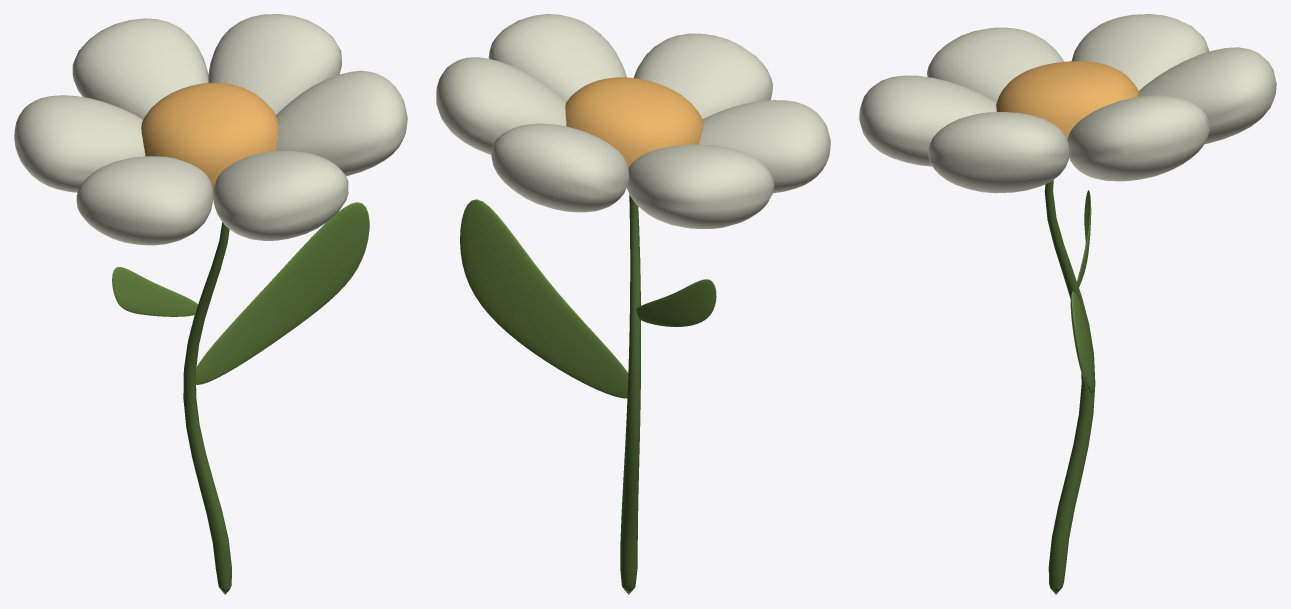
Rendered from Flor.fbx.
3 views of the same model, side by side, from view 1: azimuth 30°, elevation 25°; view 2: azimuth 150°, elevation 25°; view 3: azimuth 270°, elevation 25° (orthographic). The views are drawn at different scales.
Visible parts, largest first — view 1: Flor; view 2: Flor; view 3: Flor.
Part boxes in pixels (left/top/right/bottom): Flor: left=14, top=14, right=407, bottom=594; Flor: left=436, top=14, right=830, bottom=594; Flor: left=859, top=14, right=1276, bottom=594.
Size of the model in its own units: 147 by 227 by 158.
